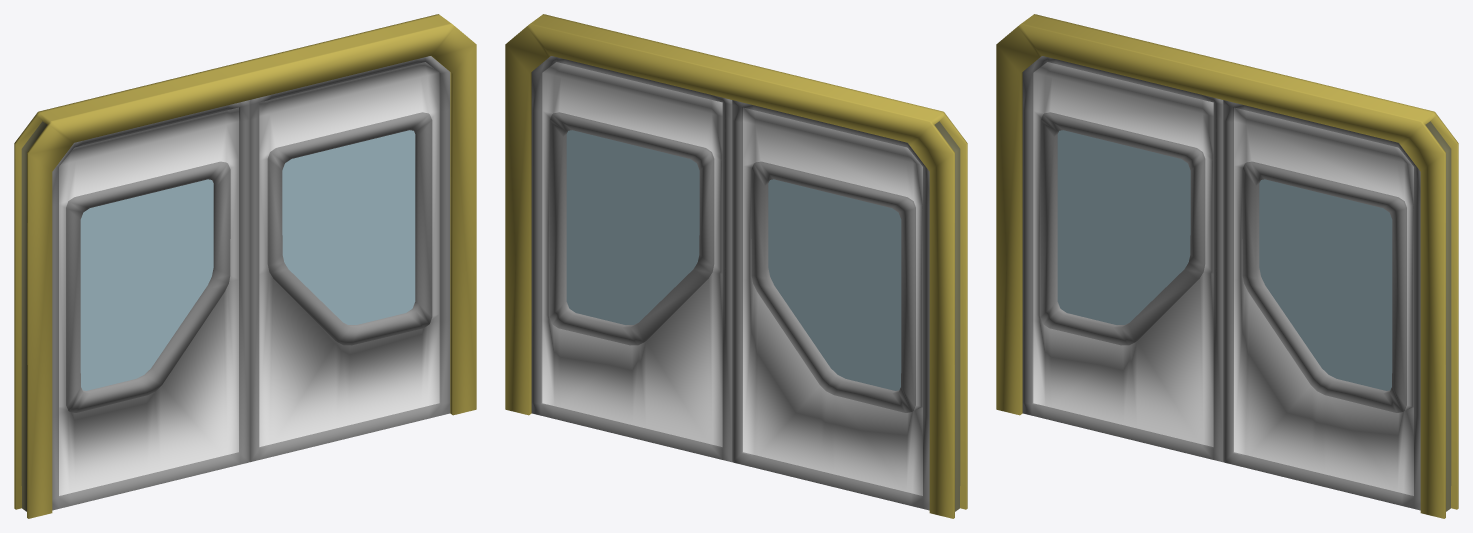
File: DoorDefault.fbx
3 views of the same model, side by side, from view 1: azimuth 30°, elevation 25°; view 2: azimuth 150°, elevation 25°; view 3: azimuth 330°, elevation 25° (orthographic).
Parts seen in each view (by area): view 1: DoorDefault_L, DoorDefault_R, DoorFrame_Default; view 2: DoorDefault_L, DoorDefault_R, DoorFrame_Default; view 3: DoorDefault_R, DoorDefault_L, DoorFrame_Default.
Part boxes in pixels (left/top/right/bottom): DoorDefault_L: left=249, top=56, right=450, bottom=462; DoorDefault_R: left=52, top=100, right=249, bottom=510; DoorFrame_Default: left=14, top=14, right=476, bottom=518; DoorDefault_L: left=531, top=56, right=732, bottom=462; DoorDefault_R: left=732, top=100, right=929, bottom=510; DoorFrame_Default: left=505, top=14, right=967, bottom=518; DoorDefault_R: left=1022, top=56, right=1223, bottom=462; DoorDefault_L: left=1223, top=100, right=1420, bottom=510; DoorFrame_Default: left=996, top=14, right=1458, bottom=518.
Size of the model in its own units: 3.24 by 2.7 by 0.18.
